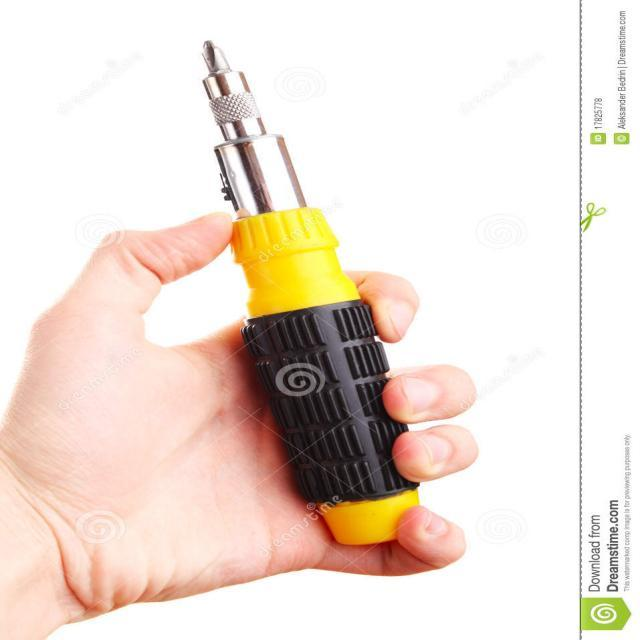screwdriver: (192, 33, 423, 550)
